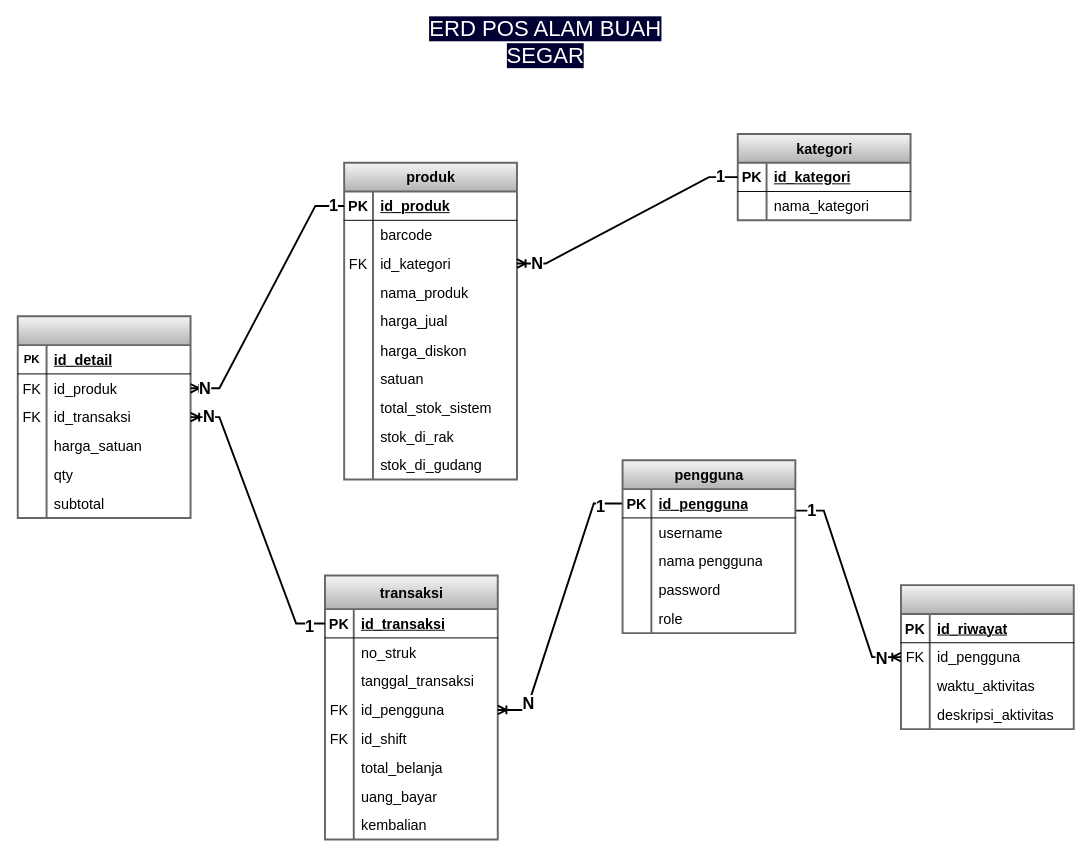
This 1091x857 diagram has some shape labels left out. The shapes that lost their labels are listed below. From the top down, each one's box as (x1, y1, x2, y2) in pixels, then its label:
(16, 315, 191, 518): detail_transaksi
(900, 584, 1074, 730): riwayat_aktivitas
